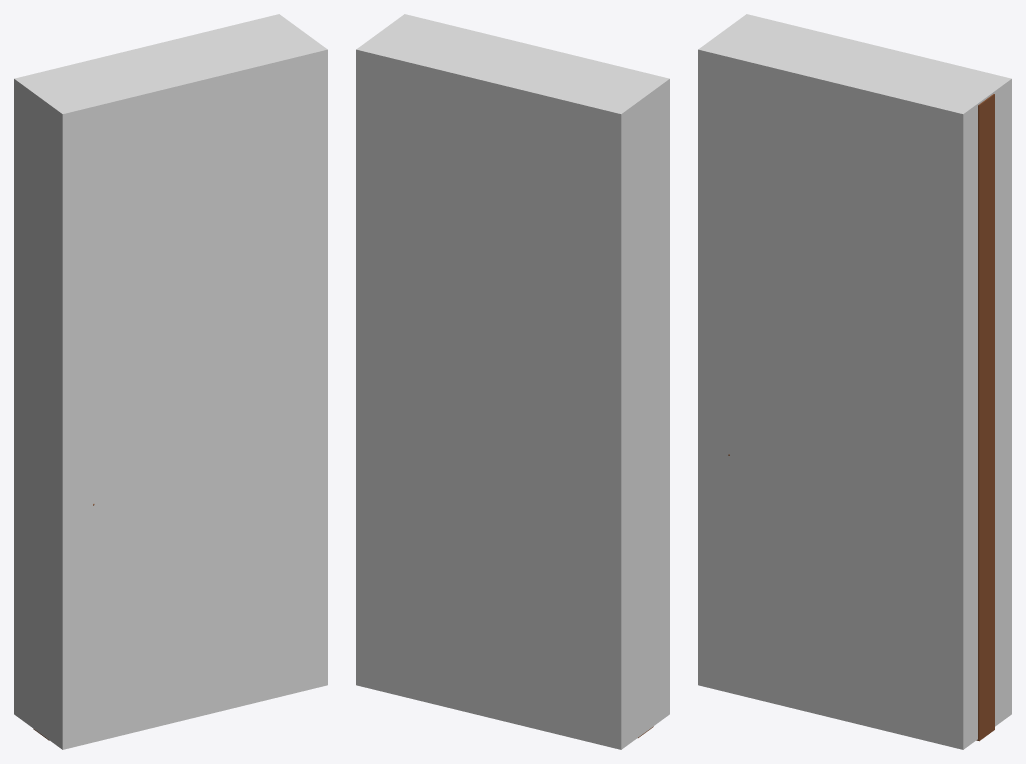
File: door-c.glb
3 views of the same model, side by side, from view 1: azimuth 30°, elevation 25°; view 2: azimuth 150°, elevation 25°; view 3: azimuth 330°, elevation 25° (orthographic).
Visible parts, largest first — view 1: Door C_col; view 2: Door C_col; view 3: Door C_col, Door C.
Boxes of the visible parts, x1,y1,x2,y2 form: Door C_col: (14,14,327,749); Door C_col: (356,14,669,749); Door C_col: (698,14,1011,749); Door C: (728,94,994,741).
Size of the model in its own units: 4.59 by 10.5 by 1.46.
